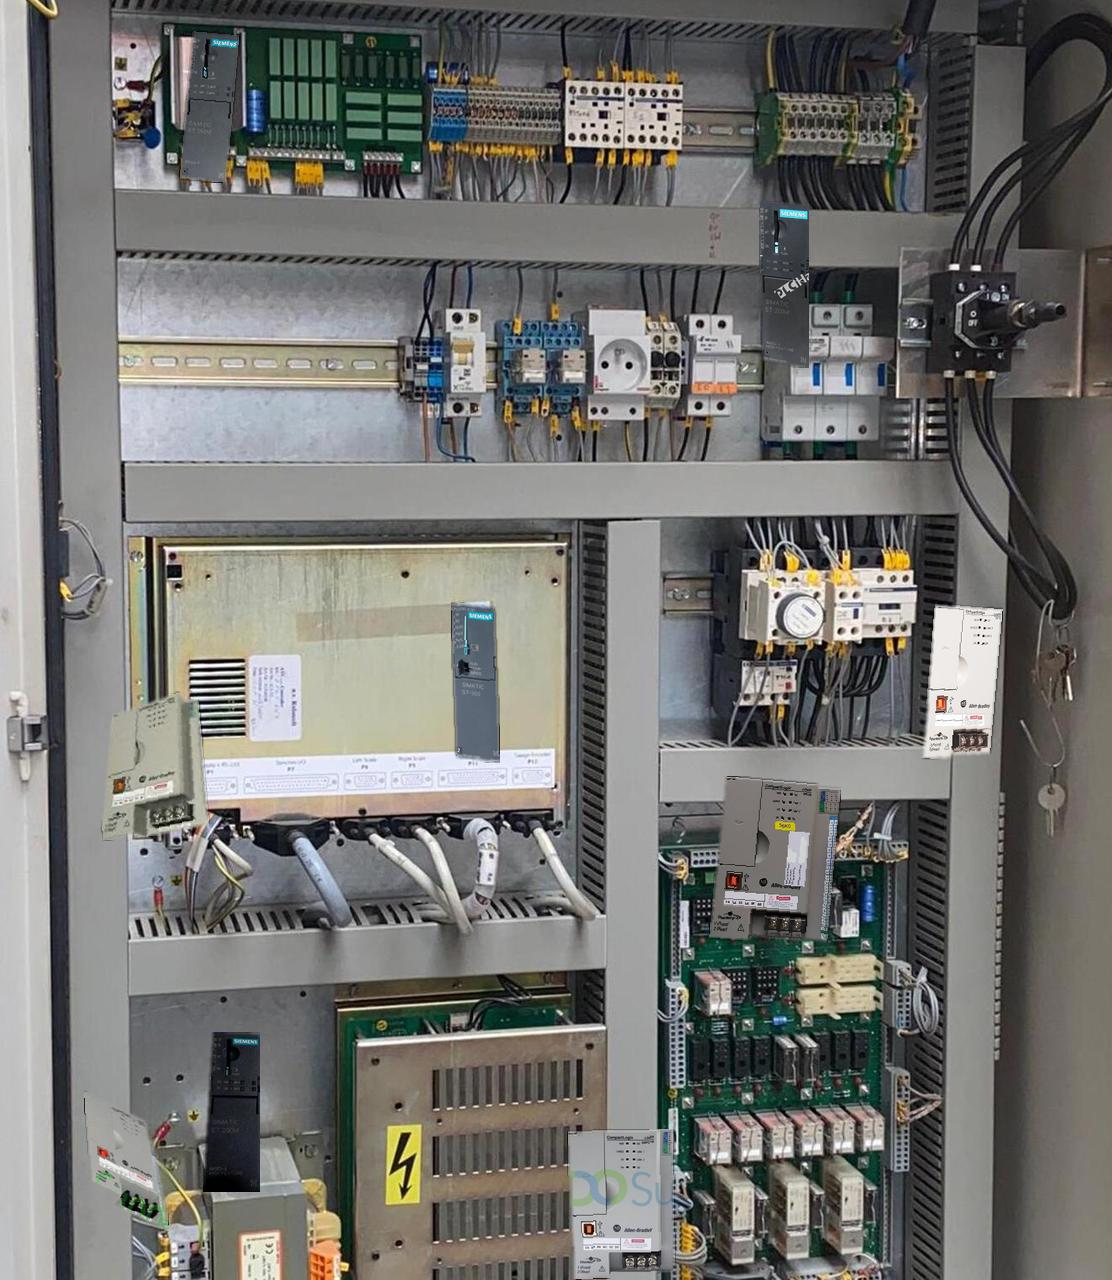AllenBradley: (709, 776, 839, 940), (568, 1129, 674, 1278), (102, 693, 207, 838), (923, 605, 1002, 756), (84, 1092, 168, 1230)
Siemens: (450, 604, 499, 760)
